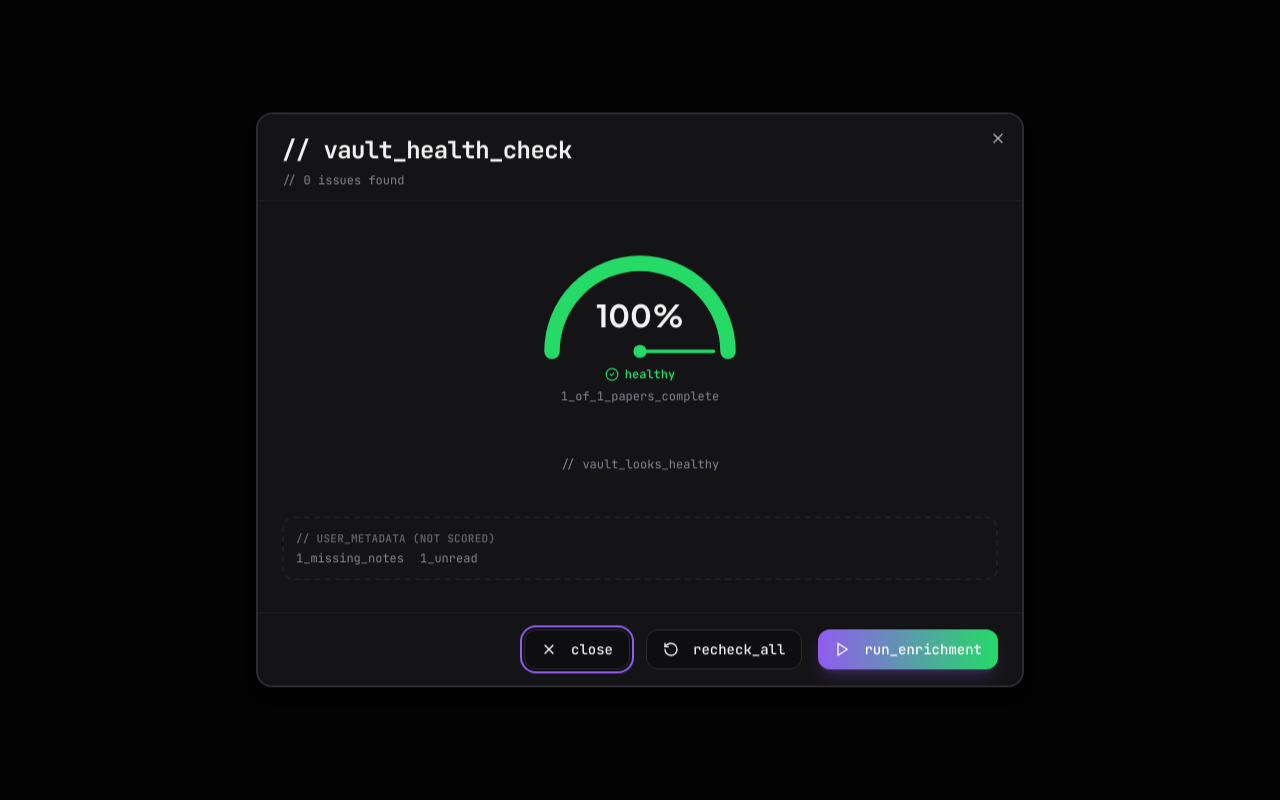
it: VaultHealthCheckDialog › keeps apply disabled when disabled=true regardless of phase, even with checked diffs
The width and height of the screenshot is (1280, 800).
Expected: the button "apply_selected" is not shown
Step 1. Click the button "run_enrichment" → (908, 650), box [818, 630, 998, 670]
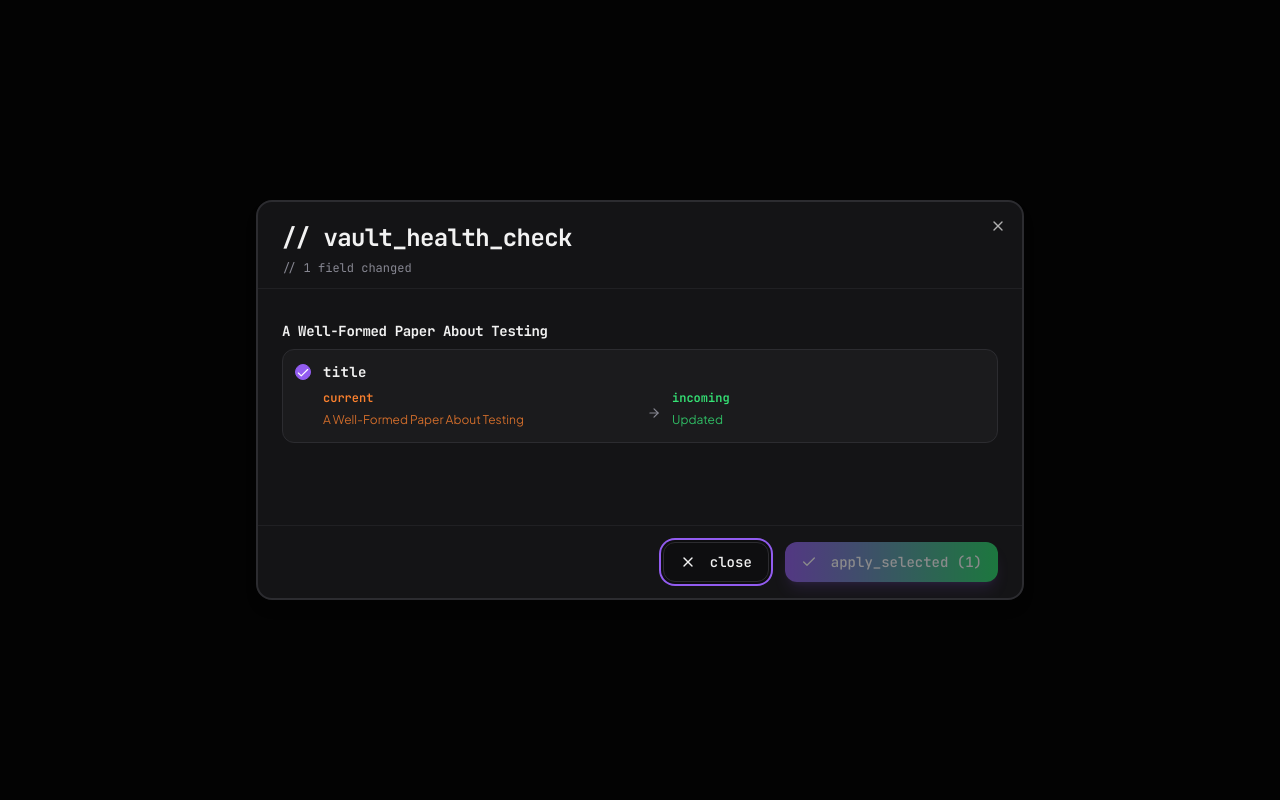
Expected: the text "title" is shown, [323, 363, 367, 381]
Expected: the button "apply_selected (1)" is disabled, [785, 542, 998, 582]
